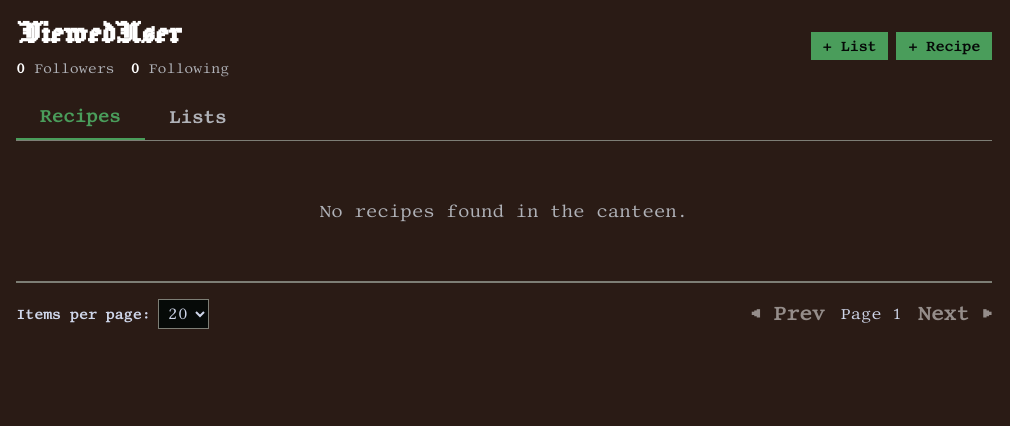
Test: UserProfile › shows 'Manage My Lists' only for own profile
Expected: the heading "ViewedUser" is shown, [16, 16, 181, 52]
Step 1. Click the button "Lists" → (197, 117), box [145, 94, 250, 140]
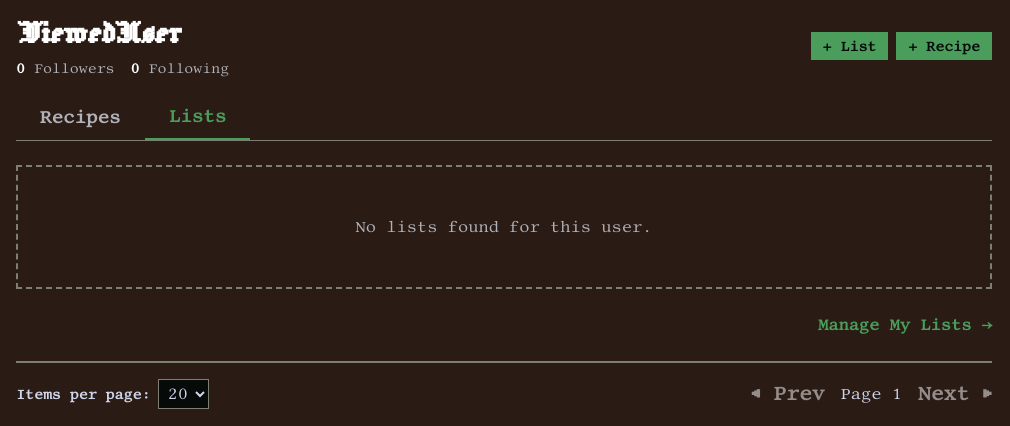
Expected: the link "Manage My Lists →" is shown, [818, 313, 992, 337]
